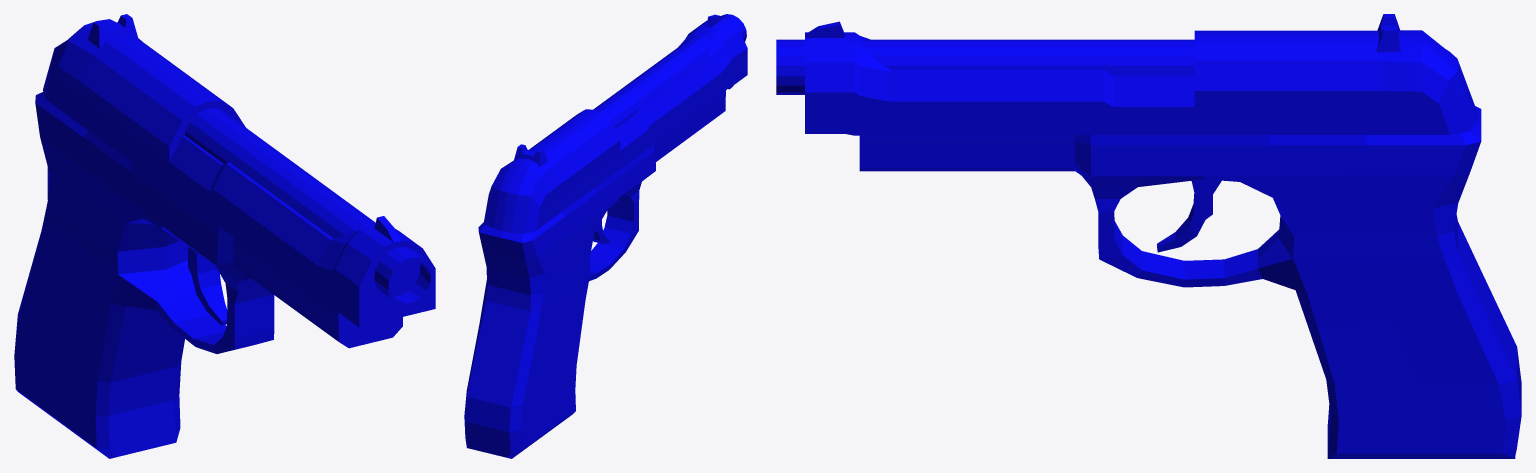
File: gun.fbx
3 views of the same model, side by side, from view 1: azimuth 30°, elevation 25°; view 2: azimuth 150°, elevation 25°; view 3: azimuth 270°, elevation 25° (orthographic). The views are drawn at different scales.
Visible parts, largest first — view 1: Pistol; view 2: Pistol; view 3: Pistol.
Part boxes in pixels (box(x1,y1,x2,y2)): Pistol: box(14, 14, 435, 458); Pistol: box(464, 14, 747, 458); Pistol: box(776, 14, 1521, 458).
Size of the model in its own units: 9.26 by 42.82 by 68.89.
1 material, 1 textured.
